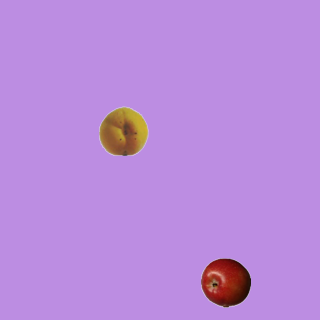Apple Braeburn: (200, 257, 250, 307)
Peach 2: (98, 105, 148, 155)
